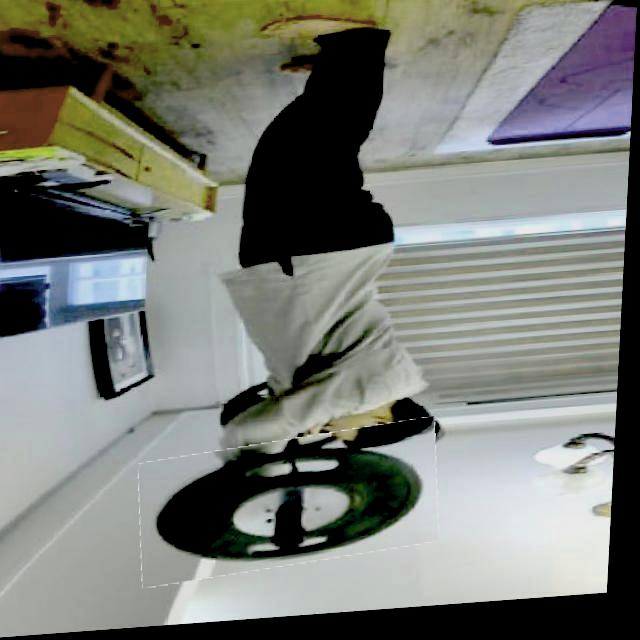barbell: (143, 430, 449, 585)
